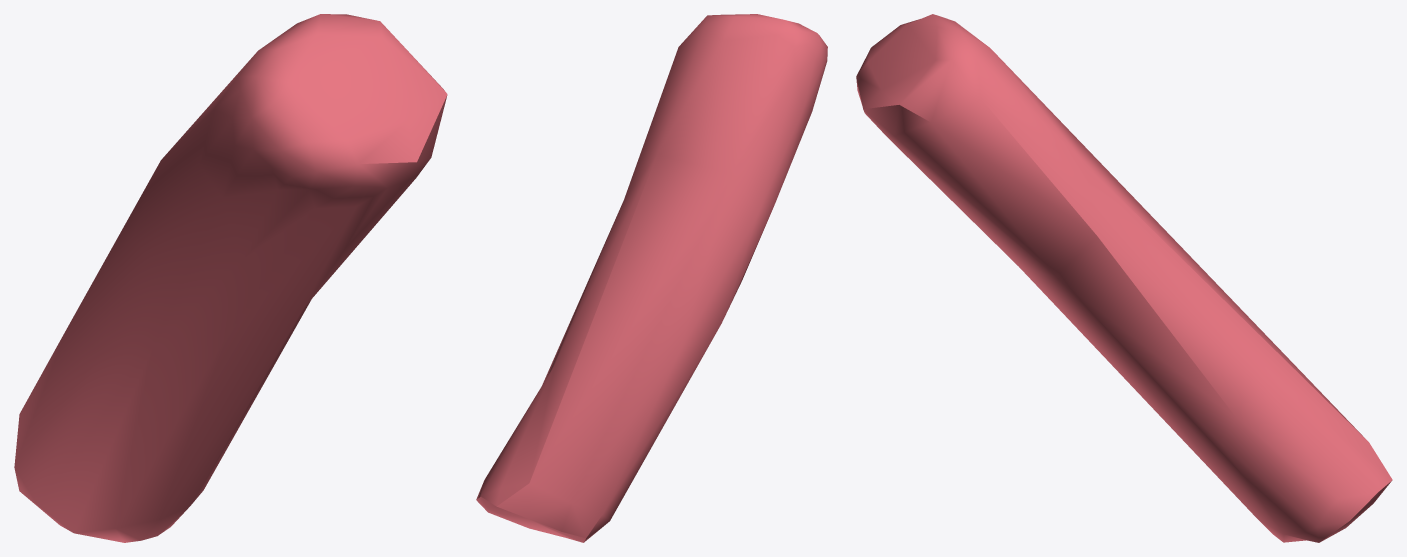
The model's file is fma18886_fj3522.glb.
3 renders of one model, left to right at view 1: azimuth 30°, elevation 25°; view 2: azimuth 150°, elevation 25°; view 3: azimuth 270°, elevation 25°, orthographic. The views are drawn at different scales.
Parts seen in each view (by area): view 1: FMA18886_FJ3522; view 2: FMA18886_FJ3522; view 3: FMA18886_FJ3522.
Part boxes in pixels (left/top/right/bottom): FMA18886_FJ3522: left=14, top=14, right=447, bottom=542; FMA18886_FJ3522: left=476, top=14, right=827, bottom=542; FMA18886_FJ3522: left=856, top=14, right=1392, bottom=542.
Size of the model in its own units: 0.0105 by 0.0264 by 0.0263.
